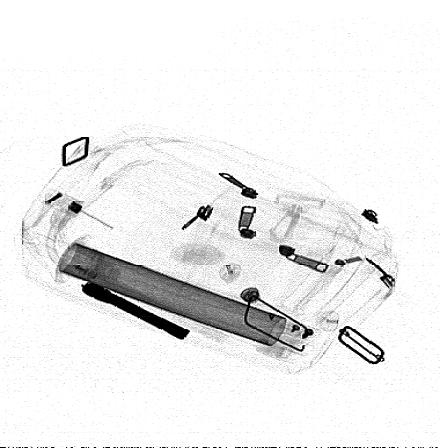Gun: (80, 278, 193, 343)
